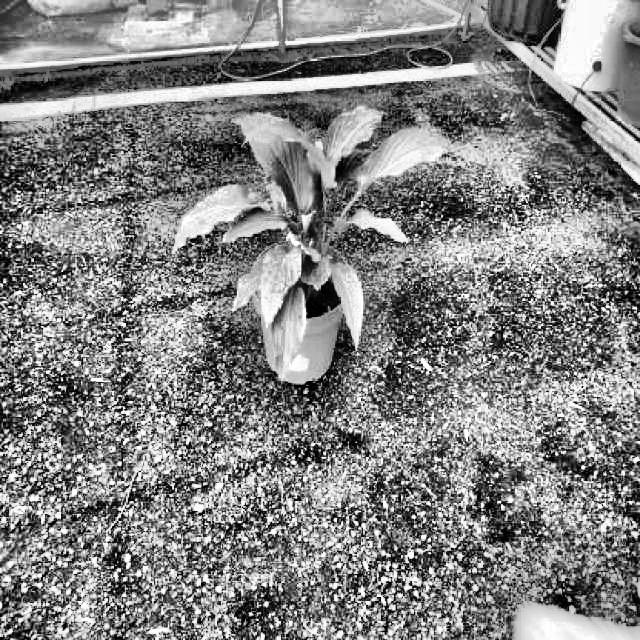plants: (170, 105, 448, 382)
